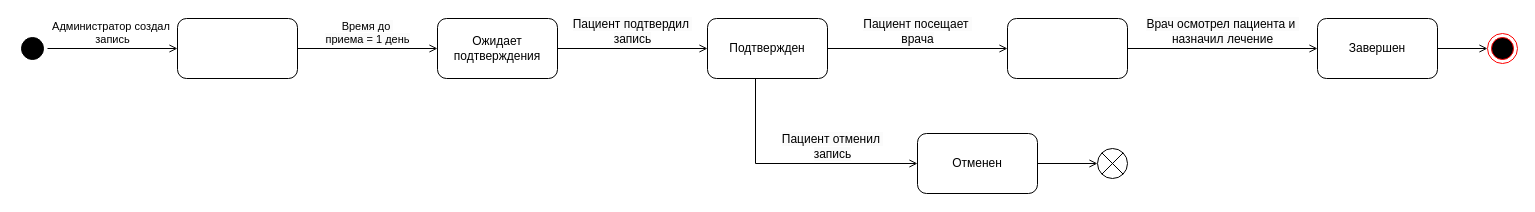
The diagram is 1535 pixels wide and 212 high, and some of its shapes have lost their labels. The shapes that lost their labels are listed below. From the top down, each one's centre as x and y in pixels, then its label:
At point 237,48: "Создан".
At point 1067,48: "В работе".
